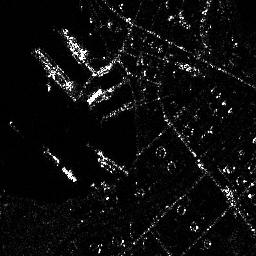ship: (87, 88, 102, 106)
